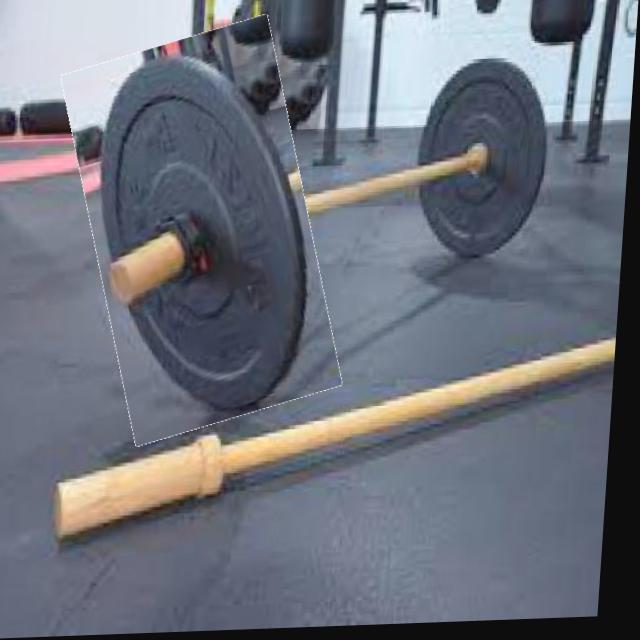barbell: (66, 26, 345, 442)
